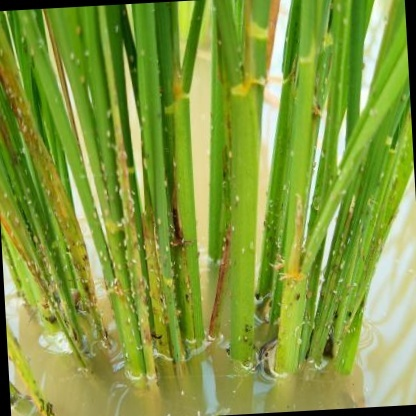Brown_hopper: (154, 206, 182, 234), (226, 288, 235, 301), (153, 267, 161, 278), (163, 252, 170, 264), (155, 275, 163, 283), (340, 263, 346, 273), (182, 277, 190, 284), (187, 283, 195, 289), (179, 264, 185, 271), (174, 272, 181, 278), (189, 288, 194, 296), (161, 308, 165, 313), (163, 320, 167, 325)
